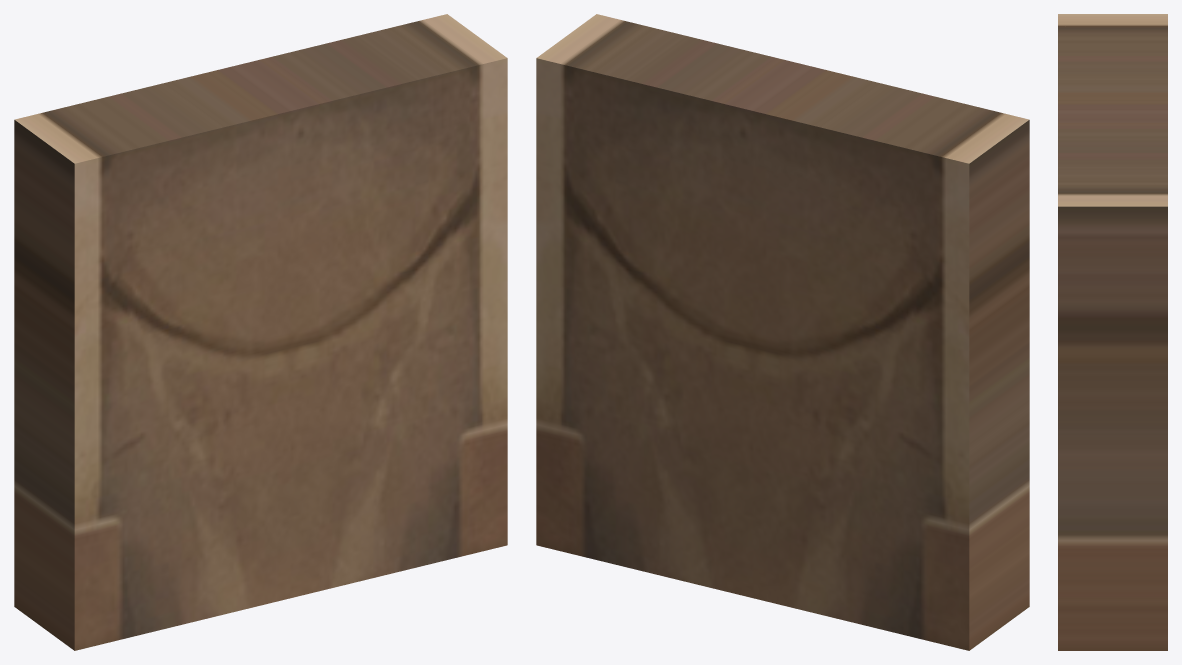
The model's file is Front_Wall_02.glb.
The picture shows the model from 3 angles, left to right: view 1: azimuth 30°, elevation 25°; view 2: azimuth 150°, elevation 25°; view 3: azimuth 270°, elevation 25°; orthographic projection. The views are drawn at different scales.
Visible parts, largest first — view 1: Front_Wall_02; view 2: Front_Wall_02; view 3: Front_Wall_02.
Part boxes in pixels (x1=…): Front_Wall_02: x1=14, y1=14, x2=507, y2=650; Front_Wall_02: x1=536, y1=14, x2=1029, y2=650; Front_Wall_02: x1=1058, y1=14, x2=1167, y2=650.
Bounding box in the file's own units: 8.57 × 9.21 × 2.07.
Materials: 1 (1 with a texture image).
